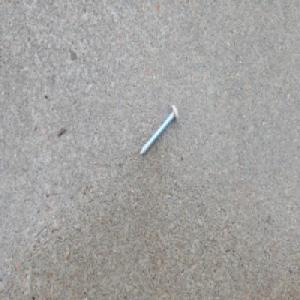Nail: (138, 102, 178, 157)
